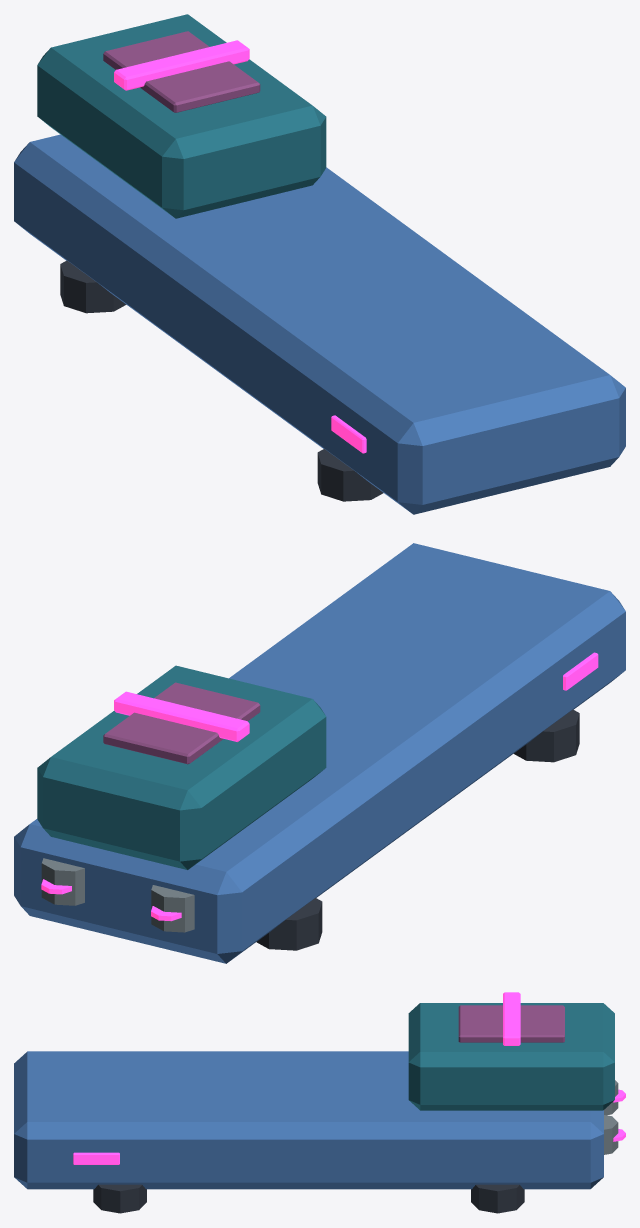
Rendered from vehicles_035_seed11.glb.
3 renders of one model, top to bottom at view 1: azimuth 30°, elevation 25°; view 2: azimuth 150°, elevation 25°; view 3: azimuth 270°, elevation 25°, orthographic. The views are drawn at different scales.
Parts seen in each view (by area): view 1: vehicles_035_seed11; view 2: vehicles_035_seed11; view 3: vehicles_035_seed11.
Part boxes in pixels (x1=…): vehicles_035_seed11: x1=14, y1=14, x2=625, y2=514; vehicles_035_seed11: x1=14, y1=543, x2=625, y2=963; vehicles_035_seed11: x1=14, y1=992, x2=625, y2=1213.
Bounding box in the file's own units: 1.94 × 1.55 × 5.49.
